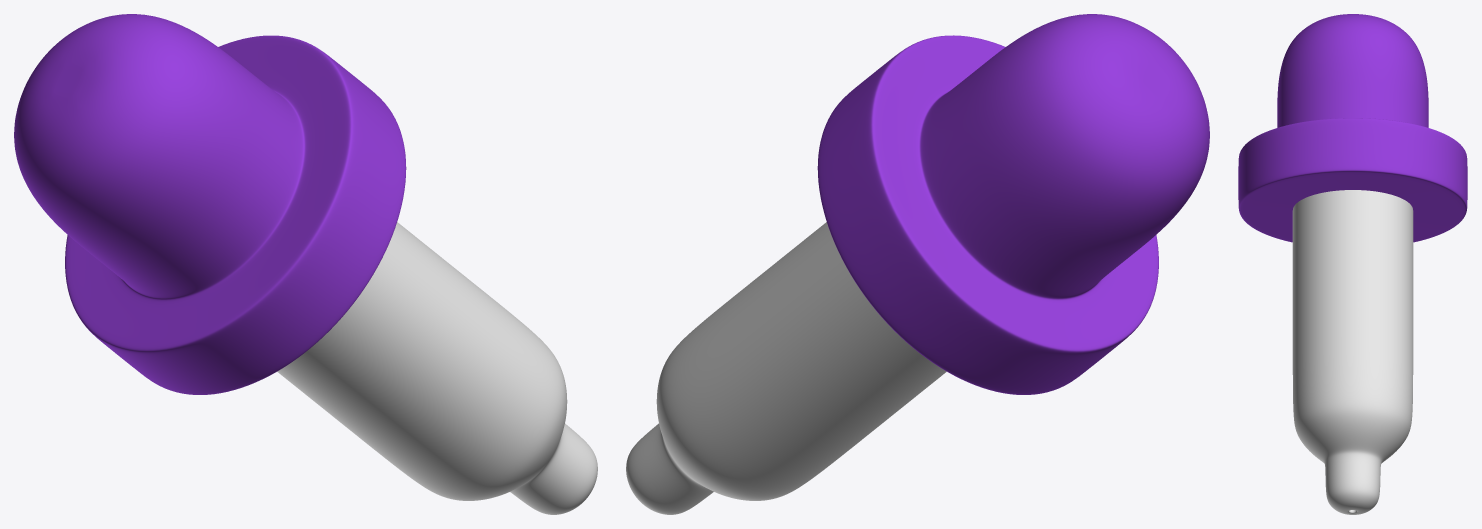
The model's file is eyedropper.fbx.
3 views of the same model, side by side, from view 1: azimuth 30°, elevation 25°; view 2: azimuth 150°, elevation 25°; view 3: azimuth 270°, elevation 25° (orthographic). The views are drawn at different scales.
Visible parts, largest first — view 1: Cylinder.003; view 2: Cylinder.003; view 3: Cylinder.003.
Boxes of the visible parts, x1,y1,x2,y2 form: Cylinder.003: (14, 14, 597, 514); Cylinder.003: (626, 14, 1209, 514); Cylinder.003: (1238, 14, 1467, 514).
Bounding box in the file's own units: 195 × 195 × 110.
